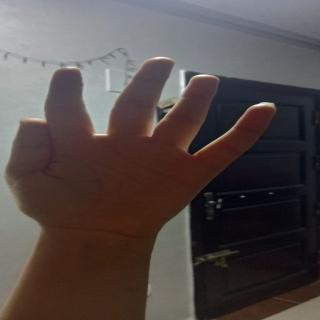SHEEN: (10, 49, 296, 217)
